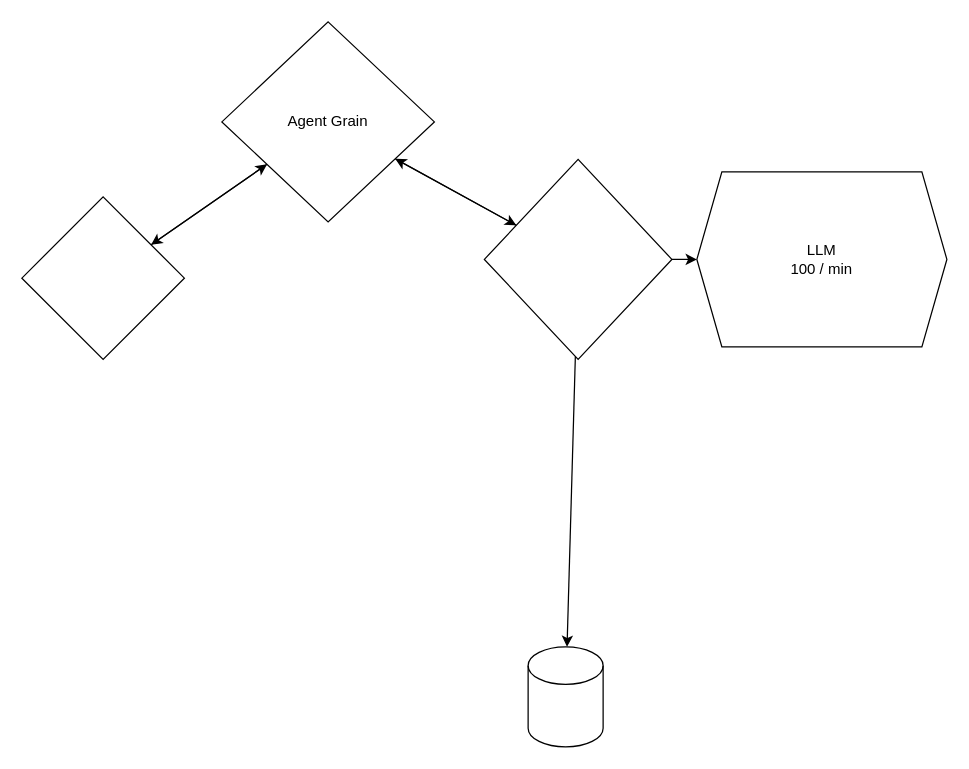
This 969x769 diagram has some shape labels left out. Each missing label, with the centre of its shape:
"Group Grain" belongs at point 102,277.
"LLM Intent Grain" belongs at point 577,258.
